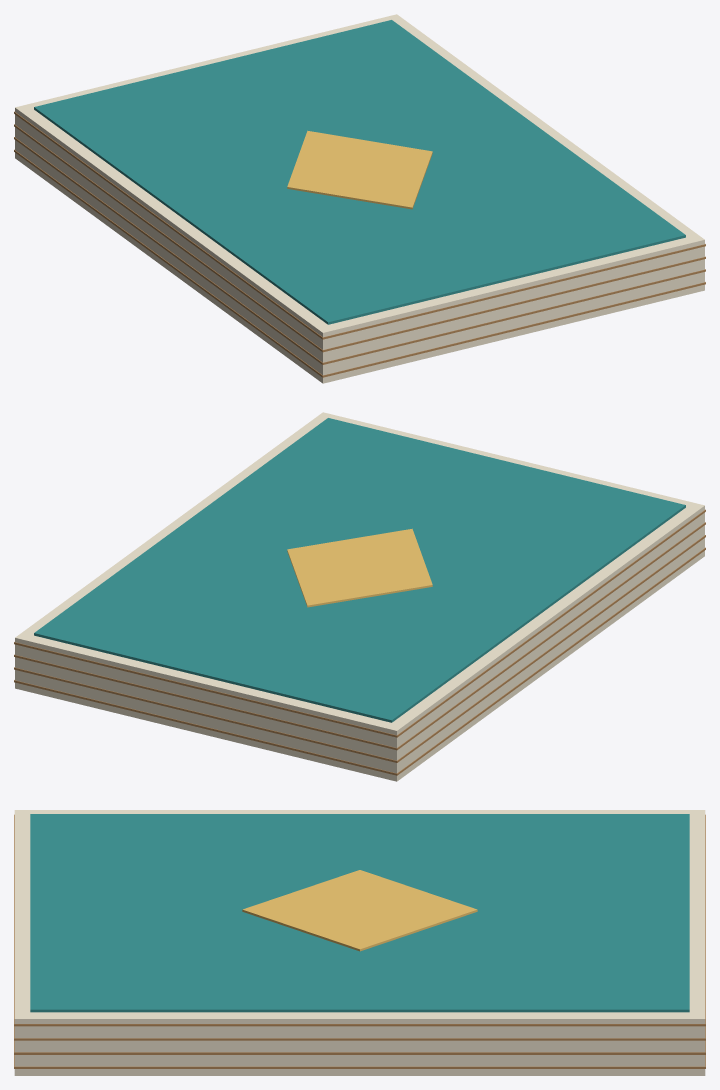
The model's file is tabletop-game-components-card-deck-b09a6dee__20883.glb.
3 renders of one model, top to bottom at view 1: azimuth 30°, elevation 25°; view 2: azimuth 150°, elevation 25°; view 3: azimuth 270°, elevation 25°, orthographic. The views are drawn at different scales.
Visible parts, largest first — view 1: card-deck; view 2: card-deck; view 3: card-deck.
Boxes of the visible parts, x1,y1,x2,y2 form: card-deck: (14, 14, 705, 383); card-deck: (14, 412, 705, 781); card-deck: (14, 810, 705, 1075).
Bounding box in the file's own units: 0.0632 × 0.0087 × 0.0882.
